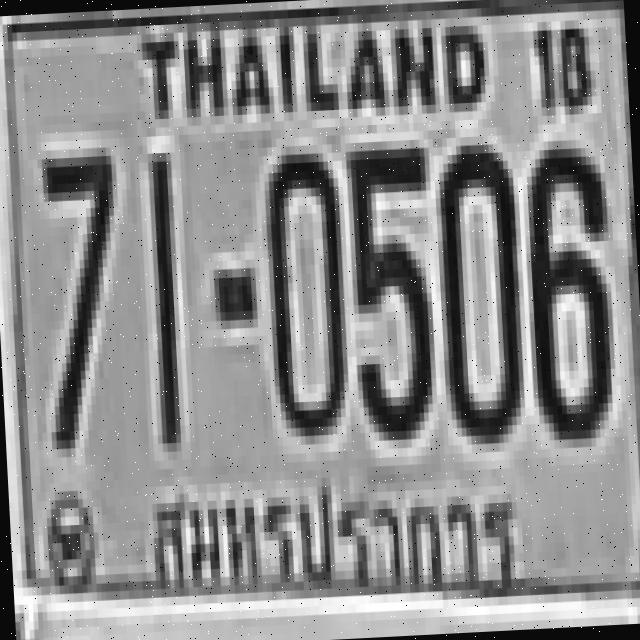0: (433, 135, 522, 437), (258, 144, 346, 430)
1: (143, 148, 181, 440)
5: (346, 140, 434, 433)
6: (520, 138, 614, 432)
7: (39, 148, 124, 450)
SamutPrakan: (138, 458, 526, 616)
